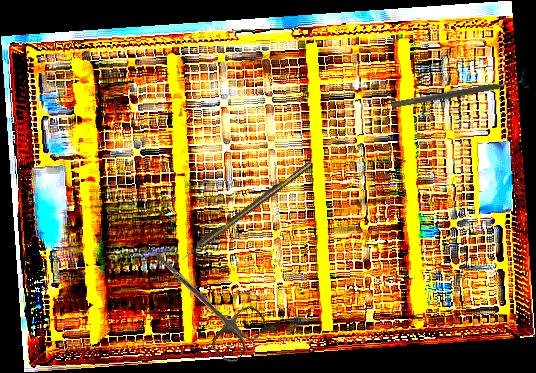Fixation Ring: (389, 67, 531, 117)
Hook Surgical: (178, 160, 314, 262)
Iris Scissors: (131, 232, 272, 367)
